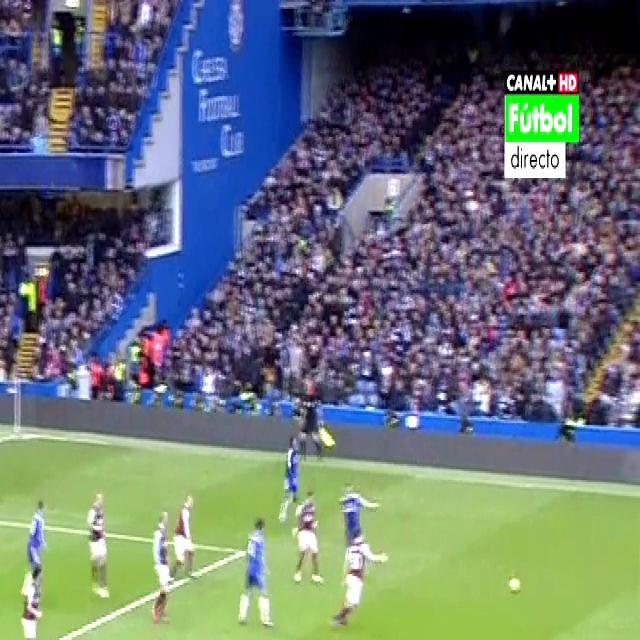ball: (494, 555, 528, 608)
referee: (291, 372, 332, 468), (134, 633, 178, 640)
soccer-player: (233, 512, 278, 636), (340, 531, 382, 636), (83, 488, 117, 608), (168, 486, 206, 591), (21, 492, 55, 600), (338, 472, 382, 547), (152, 502, 176, 630), (298, 490, 321, 596), (277, 426, 301, 520), (18, 570, 44, 640)
